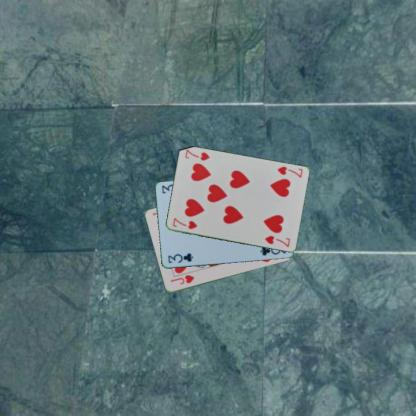3c: (165, 250, 194, 264)
7h: (274, 164, 304, 179), (170, 215, 198, 230)
Jh: (168, 272, 195, 286)
